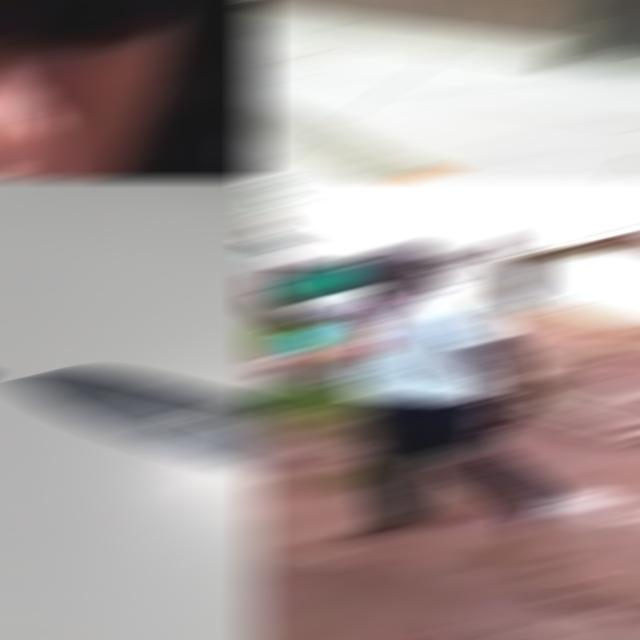Knife: (14, 372, 264, 471), (248, 100, 462, 177)
Knife_Handle: (0, 83, 264, 177), (441, 396, 541, 464), (440, 421, 516, 463)
